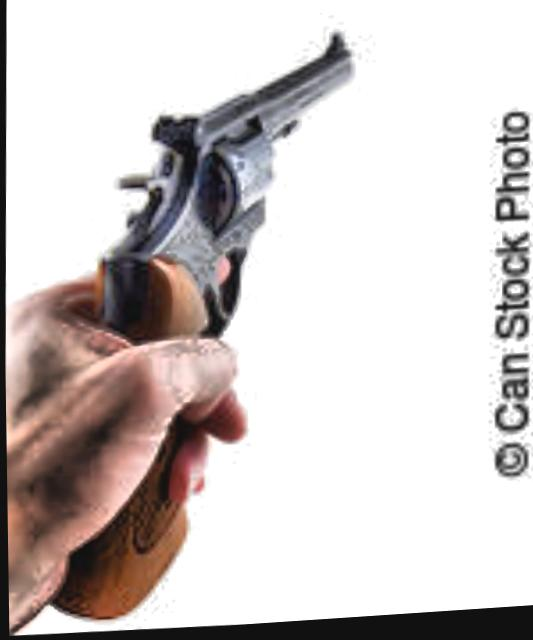pistol: (27, 20, 356, 621)
